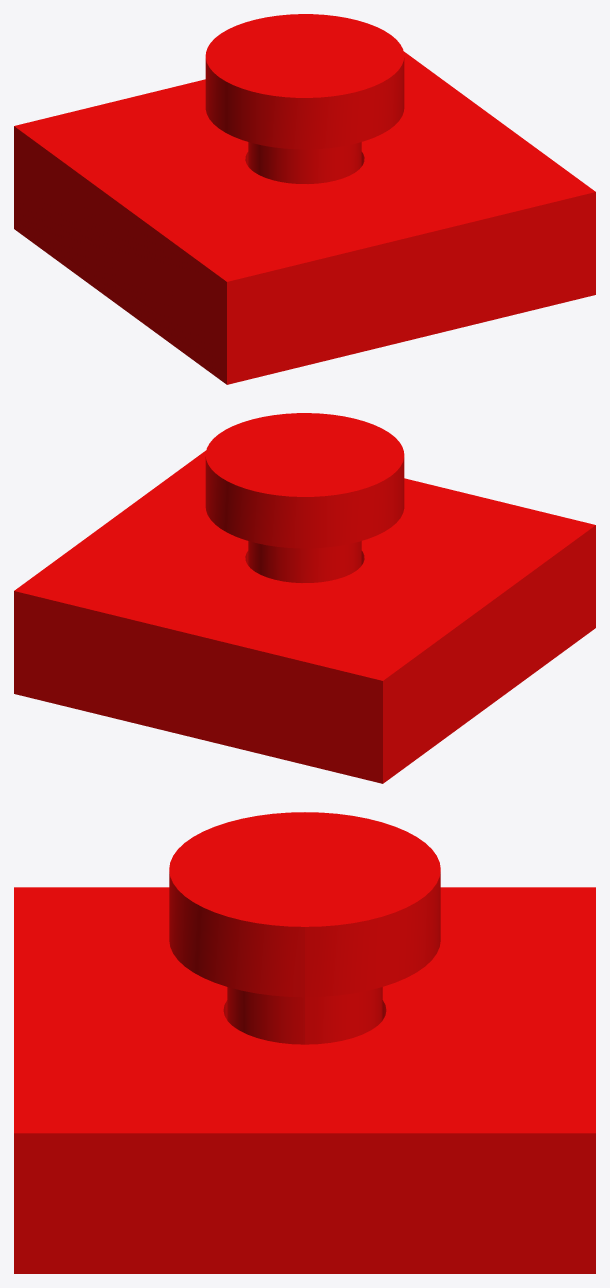
File: m3-clearance.glb
The picture shows the model from 3 angles, top to bottom: view 1: azimuth 30°, elevation 25°; view 2: azimuth 150°, elevation 25°; view 3: azimuth 270°, elevation 25°; orthographic projection. The views are drawn at different scales.
Parts seen in each view (by area): view 1: plate, bolt; view 2: plate, bolt; view 3: plate, bolt.
Boxes of the visible parts, x1,y1,x2,y2 form: plate: [14, 51, 595, 384]; bolt: [205, 14, 404, 183]; plate: [14, 450, 595, 783]; bolt: [205, 413, 404, 582]; plate: [14, 887, 595, 1273]; bolt: [169, 812, 440, 1044].
Bounding box in the file's own units: 30 × 18 × 30.
